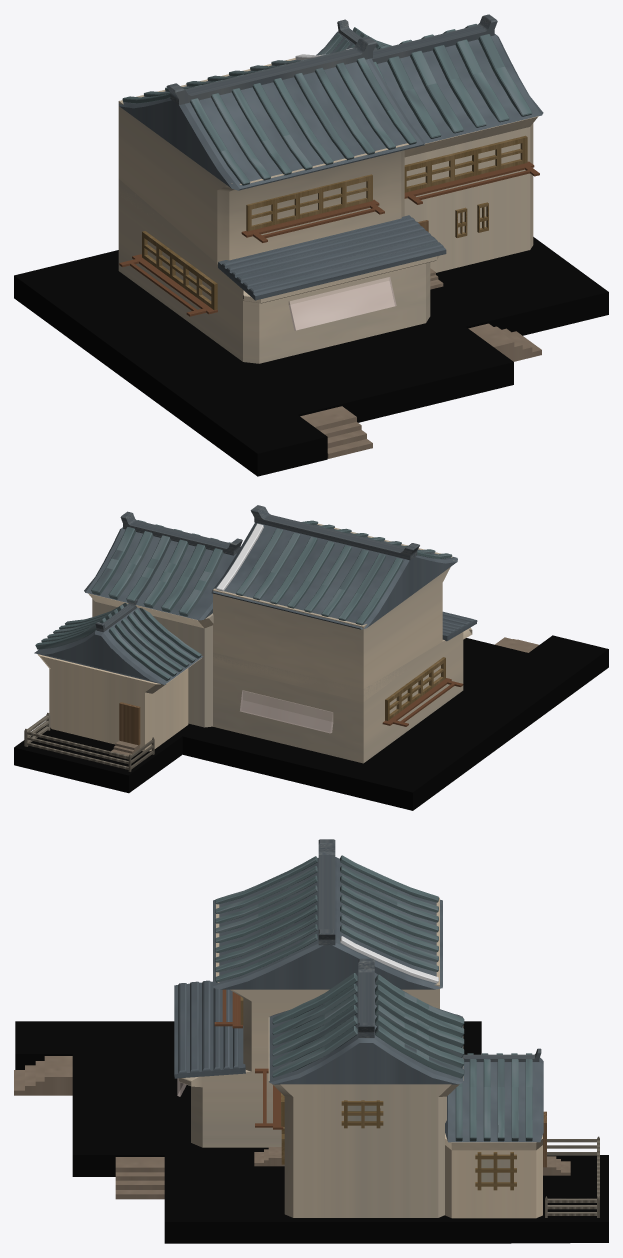
File: 江南民居.fbx
The picture shows the model from 3 angles, top to bottom: view 1: azimuth 30°, elevation 25°; view 2: azimuth 150°, elevation 25°; view 3: azimuth 270°, elevation 25°; orthographic projection. The views are drawn at different scales.
Parts seen in each view (by area): view 1: pCube1, pCube2, pCube3, pCube5, pCube26, pCube4, pCube27, pCube60, pCube25, pCube58, pCube57, pCube67 (+20 smaller); view 2: pCube1, pCube3, pCube2, pCube5, pCube41, pCube27, pCube26, pCube42, pCube25, pCube74, pCube71, pCube40 (+27 smaller); view 3: pCube1, pCube26, pCube5, pCube41, pCube27, pCube2, pCube4, pCube42, pCube3, pCube68, pCube67, pCube25 (+40 smaller).
Boxes of the visible parts, x1,y1,x2,y2 form: pCube1: (14, 237, 608, 476); pCube2: (118, 179, 439, 363); pCube3: (118, 58, 409, 263); pCube5: (118, 58, 424, 190); pCube26: (404, 116, 538, 272); pCube4: (218, 215, 446, 300); pCube27: (377, 34, 543, 143); pCube60: (288, 277, 396, 330); pCube25: (166, 36, 377, 105); pCube58: (404, 135, 527, 192); pCube57: (246, 174, 372, 231); pCube67: (300, 406, 372, 458); pCube1: (14, 635, 608, 810); pCube3: (213, 523, 453, 701); pCube2: (213, 627, 472, 763); pCube5: (211, 522, 457, 629); pCube41: (37, 654, 201, 751); pCube27: (84, 527, 236, 620); pCube26: (88, 593, 213, 727); pCube42: (34, 607, 203, 684); pCube25: (250, 505, 419, 560); pCube74: (240, 690, 333, 733); pCube71: (24, 712, 154, 771); pCube40: (120, 511, 242, 555); pCube1: (15, 1021, 608, 1243); pCube26: (268, 1017, 463, 1217); pCube5: (213, 857, 442, 989); pCube41: (445, 1133, 542, 1218); pCube27: (269, 972, 462, 1084); pCube2: (179, 1070, 281, 1147); pCube4: (174, 980, 245, 1078); pCube42: (445, 1057, 543, 1142); pCube3: (216, 897, 439, 1074); pCube68: (115, 1157, 164, 1199); pCube67: (14, 1056, 72, 1095); pCube25: (318, 839, 335, 945).
Bounding box in the file's own units: 999 × 540 × 1214.
